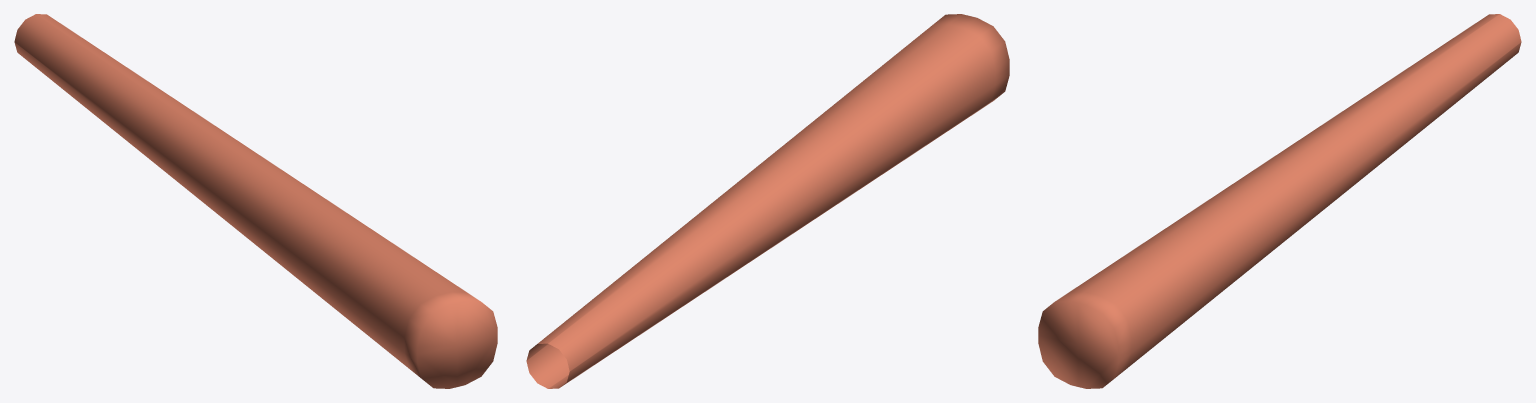
File: Baseball Bat.fbx
The picture shows the model from 3 angles, left to right: view 1: azimuth 30°, elevation 25°; view 2: azimuth 150°, elevation 25°; view 3: azimuth 330°, elevation 25°; orthographic projection.
Parts seen in each view (by area): view 1: man-skate.004; view 2: man-skate.004; view 3: man-skate.004.
Boxes of the visible parts, x1=… form: man-skate.004: x1=14, y1=14, x2=497, y2=388; man-skate.004: x1=526, y1=14, x2=1009, y2=388; man-skate.004: x1=1038, y1=14, x2=1521, y2=388.
Bounding box in the file's own units: 22.55 × 22.55 × 205.
